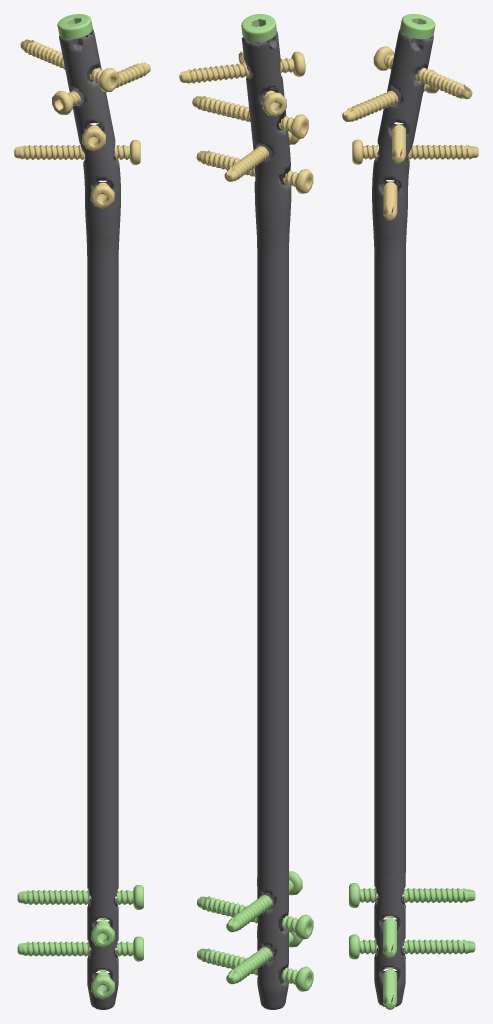
Rendered from rewalk-tibial.lod1.glb.
The picture shows the model from 3 angles, left to right: view 1: azimuth 90°, elevation 25°; view 2: azimuth 150°, elevation 25°; view 3: azimuth 270°, elevation 25°; orthographic projection.
Visible parts, largest first — view 1: nail, lock_screw_7, lock_screw_9, lock_screw_4, lock_screw_1, lock_screw_2, end_cap, lock_screw_8, lock_screw_6, lock_screw_5, lock_screw_3; view 2: nail, lock_screw_1, lock_screw_3, lock_screw_8, lock_screw_6, lock_screw_5, lock_screw_9, lock_screw_7, end_cap, lock_screw_4, lock_screw_2; view 3: nail, lock_screw_7, lock_screw_9, lock_screw_4, lock_screw_1, lock_screw_2, end_cap, lock_screw_6, lock_screw_8, lock_screw_5, lock_screw_3.
Boxes of the visible parts, bbox=[...] form: nail: bbox=[59, 29, 120, 1009]; lock_screw_7: bbox=[17, 936, 143, 961]; lock_screw_9: bbox=[17, 885, 143, 909]; lock_screw_4: bbox=[14, 140, 140, 164]; lock_screw_1: bbox=[20, 39, 119, 91]; lock_screw_2: bbox=[52, 62, 150, 114]; end_cap: bbox=[57, 14, 92, 39]; lock_screw_8: bbox=[91, 918, 114, 947]; lock_screw_6: bbox=[91, 970, 114, 999]; lock_screw_5: bbox=[90, 182, 114, 208]; lock_screw_3: bbox=[82, 123, 105, 150]; nail: bbox=[241, 31, 291, 1009]; lock_screw_1: bbox=[179, 51, 305, 83]; lock_screw_3: bbox=[192, 96, 308, 139]; lock_screw_8: bbox=[197, 896, 313, 939]; lock_screw_6: bbox=[197, 948, 313, 991]; lock_screw_5: bbox=[196, 150, 313, 193]; lock_screw_9: bbox=[226, 871, 302, 932]; lock_screw_7: bbox=[226, 931, 302, 984]; end_cap: bbox=[241, 14, 276, 42]; lock_screw_4: bbox=[224, 131, 299, 181]; lock_screw_2: bbox=[238, 51, 286, 116]; nail: bbox=[372, 29, 433, 1006]; lock_screw_7: bbox=[349, 934, 475, 959]; lock_screw_9: bbox=[349, 883, 475, 907]; lock_screw_4: bbox=[352, 139, 478, 164]; lock_screw_1: bbox=[373, 46, 472, 99]; lock_screw_2: bbox=[342, 69, 438, 121]; end_cap: bbox=[400, 14, 435, 39]; lock_screw_6: bbox=[383, 967, 396, 1009]; lock_screw_8: bbox=[383, 916, 396, 958]; lock_screw_5: bbox=[383, 180, 397, 220]; lock_screw_3: bbox=[392, 122, 405, 163].
Size of the model in its own units: 0.04 by 0.3447 by 0.0432.
